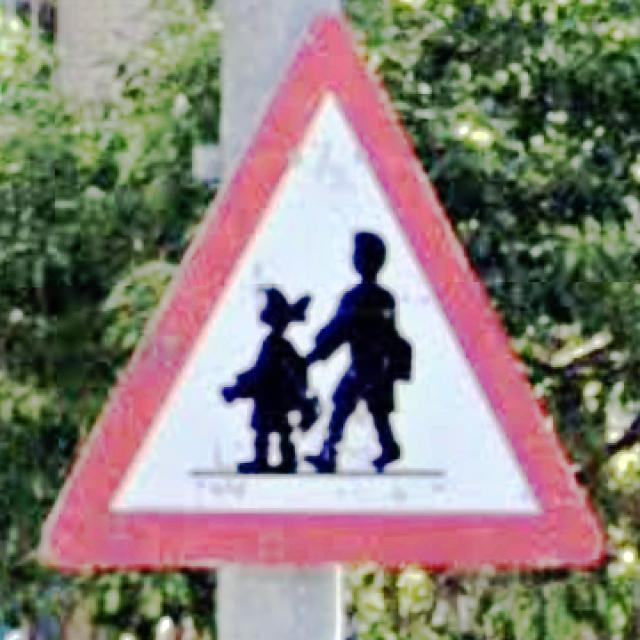childrencross: (44, 14, 604, 565)
